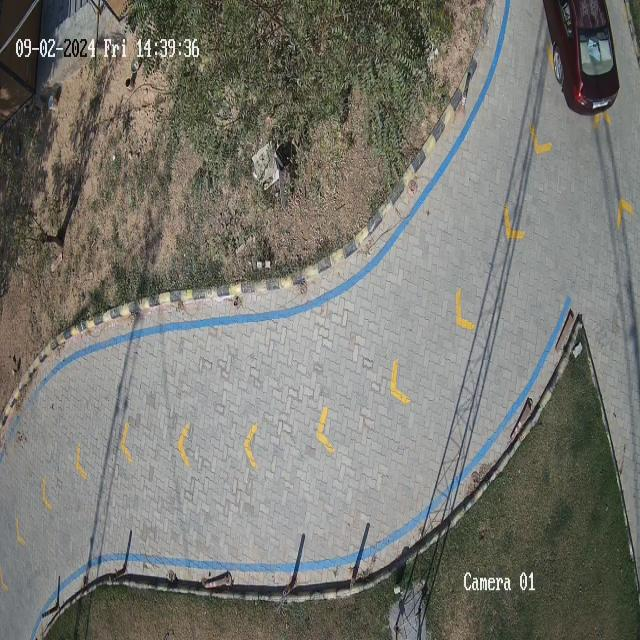car: (544, 0, 619, 114)
